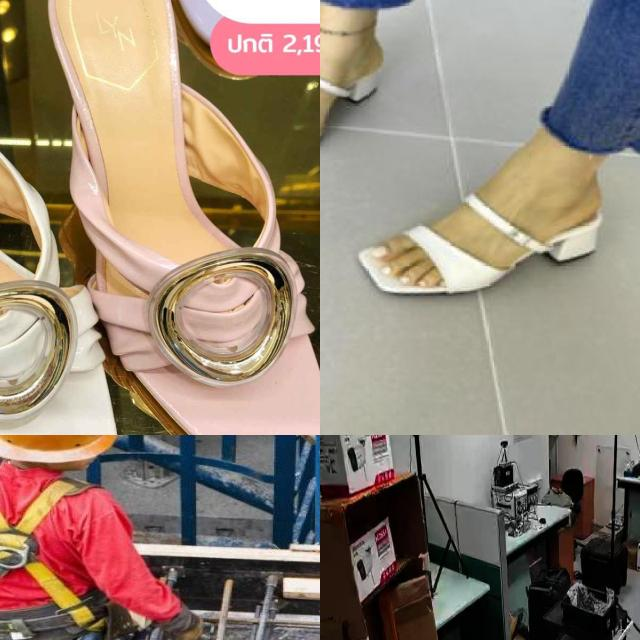Harness: (0, 478, 95, 628)
Sandals: (19, 0, 320, 435), (0, 0, 135, 435), (356, 124, 614, 302), (320, 0, 392, 172)
